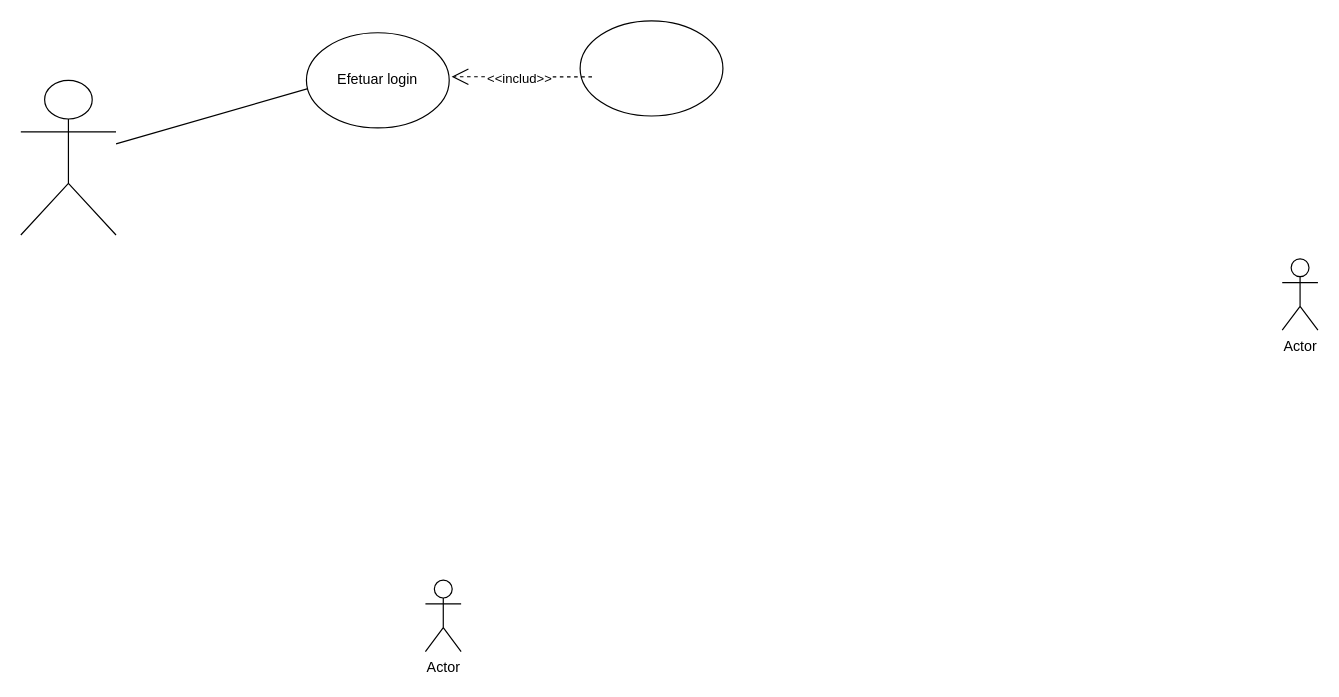
This 1339x697 diagram has some shape labels left out. Each missing label, with the centre of its shape:
Realizar cadastro: the point at 651,68
Vítima: the point at 68,157
